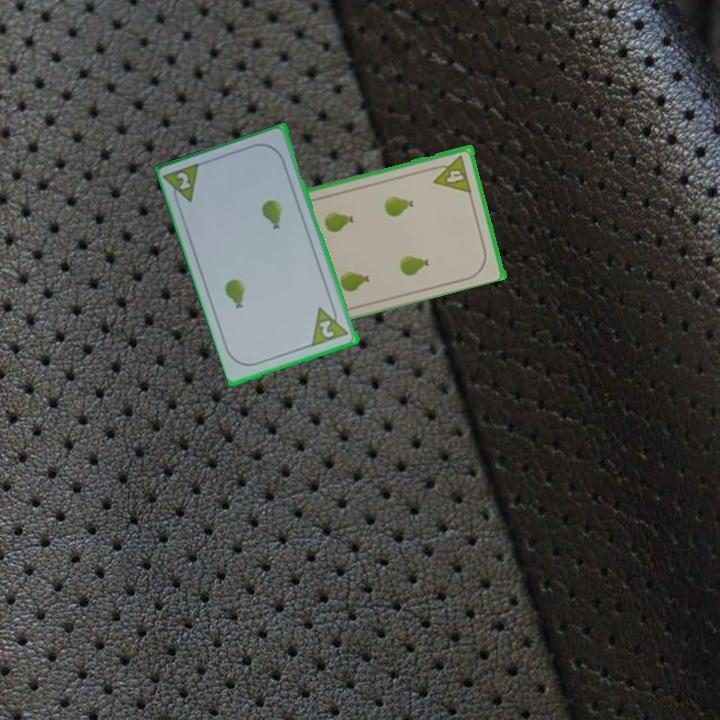2p: (309, 300, 352, 349), (173, 169, 194, 193)
4p: (428, 151, 474, 195)
